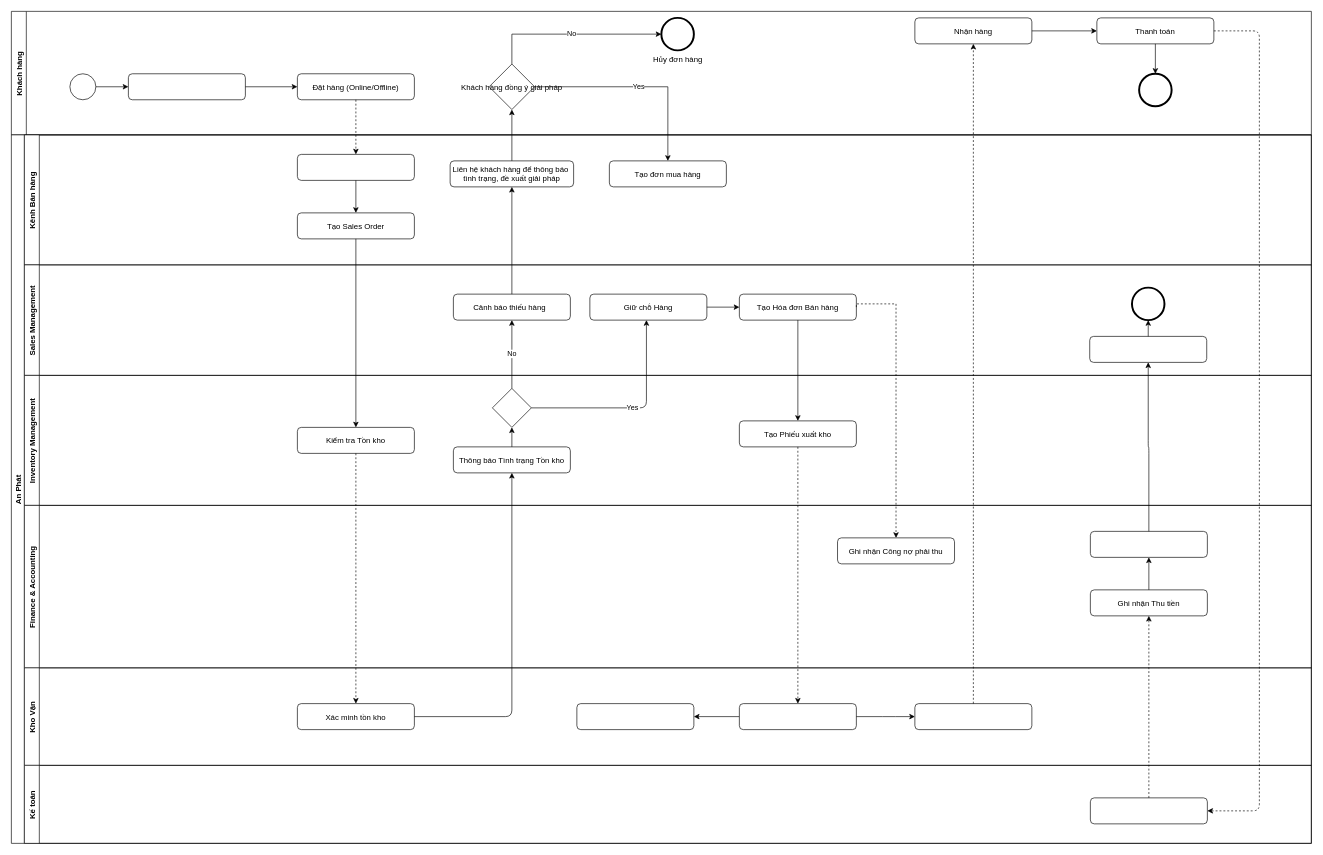
Image size: 1323x855. Some labels were removed from this diagram. The box of each missing label's shape, as (x1, y1, x2, y2) in pixels:
Bàn giao hàng: (914, 703, 1032, 730)
Chuẩn bị & Xuất hàng: (739, 703, 856, 730)
Cập nhật Trạng thái Đơn hàng: (1089, 336, 1207, 362)
Cập nhật tồn kho: (576, 703, 694, 730)
Hoàn tất đơn hàng: (1131, 287, 1164, 320)
Nhận hàng và thanh toán thành công: (1138, 73, 1172, 106)
Tiếp nhận Yêu cầu mua hàng: (69, 73, 96, 100)
Tiếp nhận Đơn hàng: (297, 154, 414, 180)
Tìm kiếm & Lựa chọn sản phẩm: (128, 73, 245, 100)
Tồn kho đủ?: (492, 388, 531, 427)
Xác nhận Thu tiền: (1090, 797, 1207, 824)
Đối trừ Công nợ: (1090, 531, 1207, 557)
